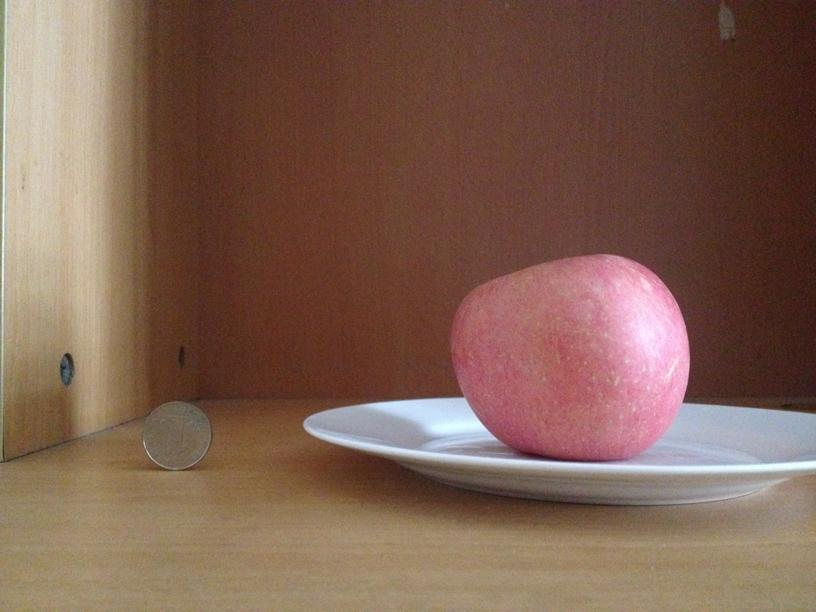apple: (451, 250, 691, 459)
coin: (142, 402, 212, 470)
